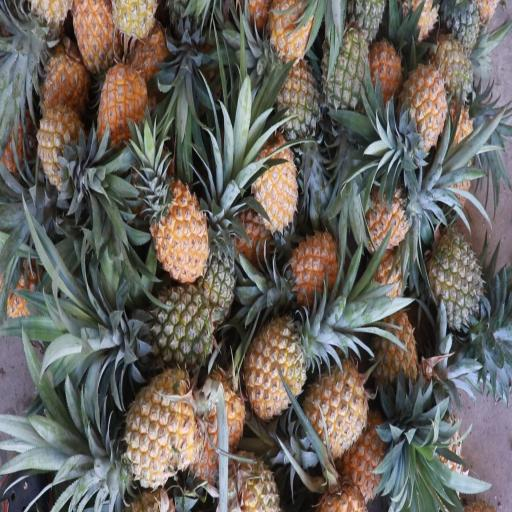------------------------------: (271, 42, 327, 145)
Pineapple - v8 v1: (119, 363, 204, 495), (188, 349, 248, 490), (242, 306, 314, 422), (151, 163, 217, 277), (300, 344, 372, 447), (248, 124, 304, 239), (282, 213, 343, 318), (93, 48, 149, 160), (368, 284, 426, 386), (393, 52, 448, 154), (356, 164, 414, 256), (34, 102, 86, 200), (215, 446, 290, 512), (422, 27, 478, 114), (72, 0, 116, 77)
